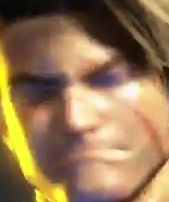kevin: (9, 15, 150, 194)
